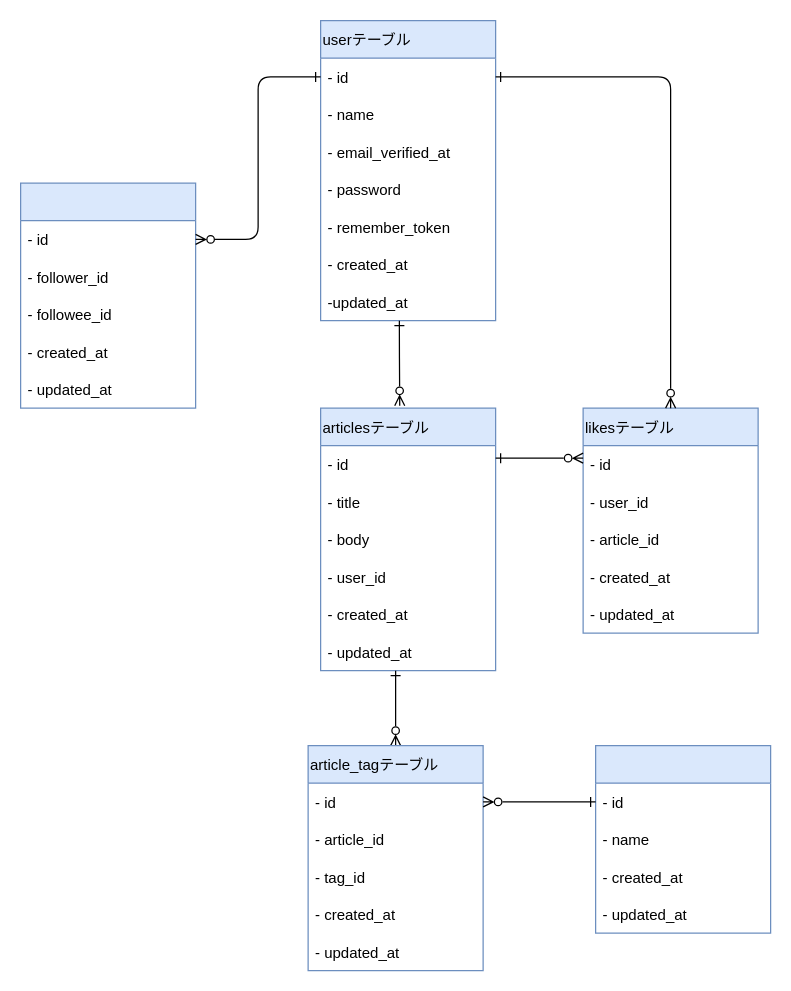
This 791x991 diagram has some shape labels left out. The box of each missing label's shape, as (x1, y1, x2, y2) in pixels:
followsテーブル: (19, 182, 196, 408)
tagsテーブル: (594, 744, 771, 933)
